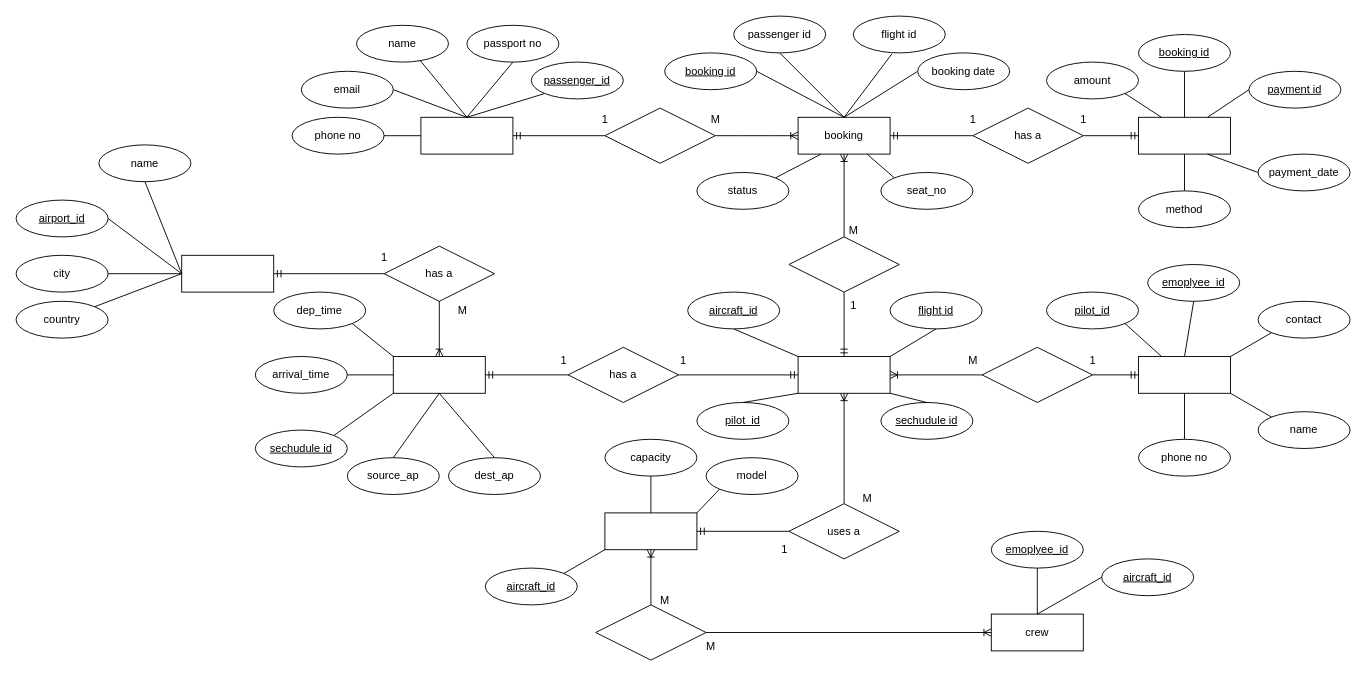
This 1366x676 diagram has some shape labels left out. The shapes that lost their labels are listed below. From the top down, each one's box as (x1, y1, x2, y2) in pixels, then its label:
(420, 116, 513, 154): passenger
(604, 107, 715, 163): books from
(1138, 116, 1230, 154): payment
(181, 254, 274, 292): airport
(788, 236, 899, 292): can have
(392, 356, 485, 393): schedule
(797, 356, 890, 393): flights
(981, 346, 1092, 402): assigned to
(1138, 356, 1230, 393): employee(pilot)
(604, 512, 697, 550): aircraft
(595, 604, 706, 660): have
